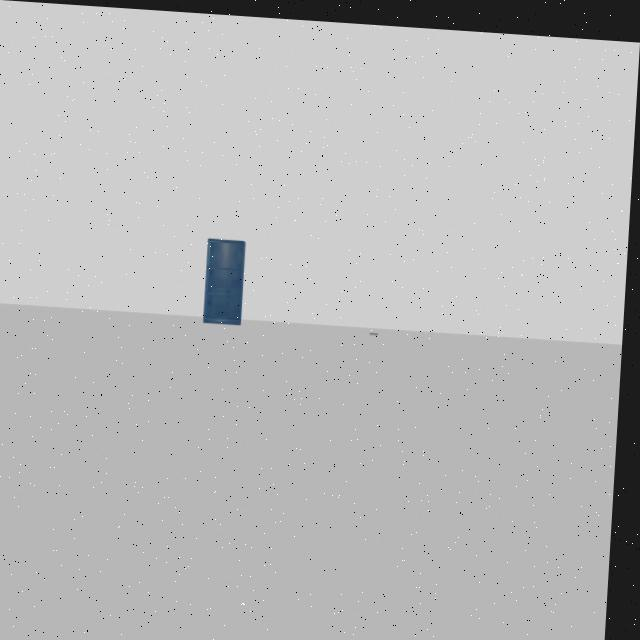bowl: (367, 318, 387, 337)
shelf: (201, 226, 255, 328)
